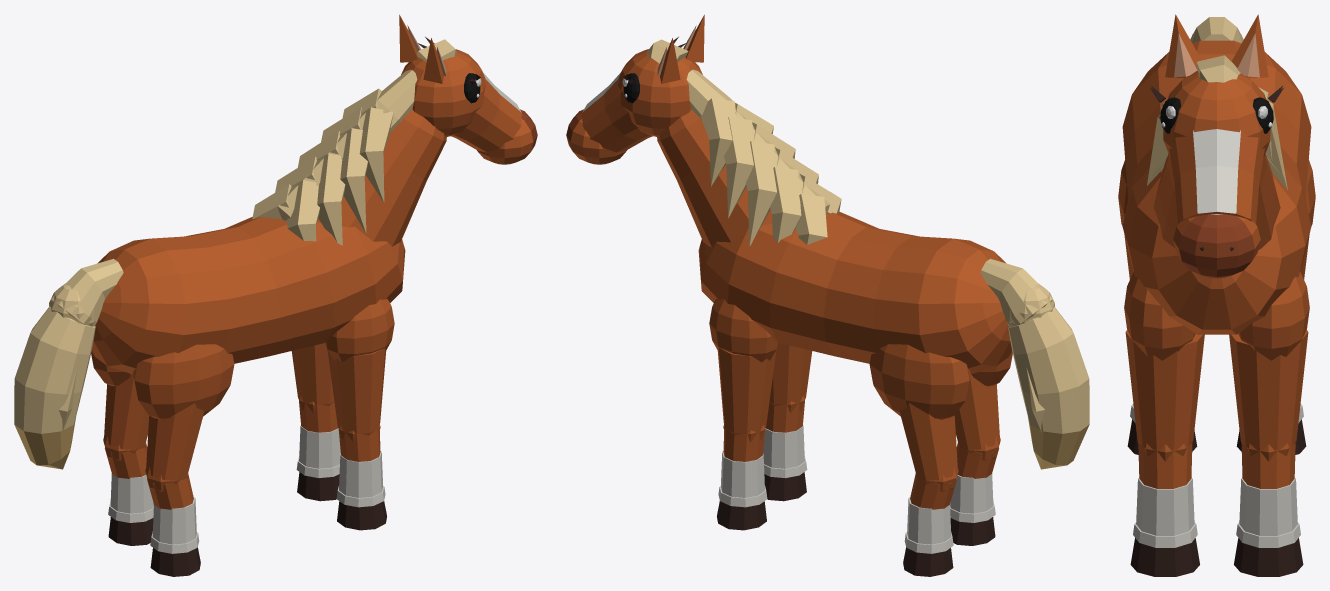
File: horse.glb
3 renders of one model, left to right at view 1: azimuth 30°, elevation 25°; view 2: azimuth 150°, elevation 25°; view 3: azimuth 270°, elevation 25°, orthographic. The views are drawn at different scales.
Visible parts, largest first — view 1: body, leg_br, leg_fr, head, tail_2, leg_bl, leg_fl, tail; view 2: body, leg_bl, leg_fl, head, tail_2, leg_br, leg_fr, tail; view 3: body, head, leg_fl, leg_fr, tail, leg_bl, leg_br.
Part boxes in pixels (x1=…): body: x1=92, y1=69, x2=446, y2=374; leg_br: x1=133, y1=344, x2=234, y2=576; leg_fr: x1=324, y1=299, x2=394, y2=530; head: x1=399, y1=14, x2=537, y2=164; tail_2: x1=14, y1=283, x2=96, y2=469; leg_bl: x1=91, y1=351, x2=153, y2=545; leg_fl: x1=291, y1=343, x2=340, y2=501; tail: x1=51, y1=258, x2=123, y2=326; body: x1=657, y1=69, x2=1011, y2=374; leg_bl: x1=869, y1=344, x2=970, y2=576; leg_fl: x1=709, y1=298, x2=779, y2=530; head: x1=566, y1=14, x2=704, y2=164; tail_2: x1=1007, y1=283, x2=1089, y2=469; leg_br: x1=950, y1=351, x2=1012, y2=545; leg_fr: x1=763, y1=343, x2=812, y2=501; tail: x1=980, y1=258, x2=1052, y2=326; body: x1=1122, y1=40, x2=1311, y2=334; head: x1=1150, y1=14, x2=1283, y2=278; leg_fl: x1=1229, y1=271, x2=1309, y2=576; leg_fr: x1=1124, y1=271, x2=1204, y2=576; tail: x1=1190, y1=17, x2=1243, y2=43; leg_bl: x1=1236, y1=160, x2=1315, y2=454; leg_br: x1=1118, y1=160, x2=1197, y2=454.
Bounding box in the file's own units: 2.61 × 2.23 × 0.67.
